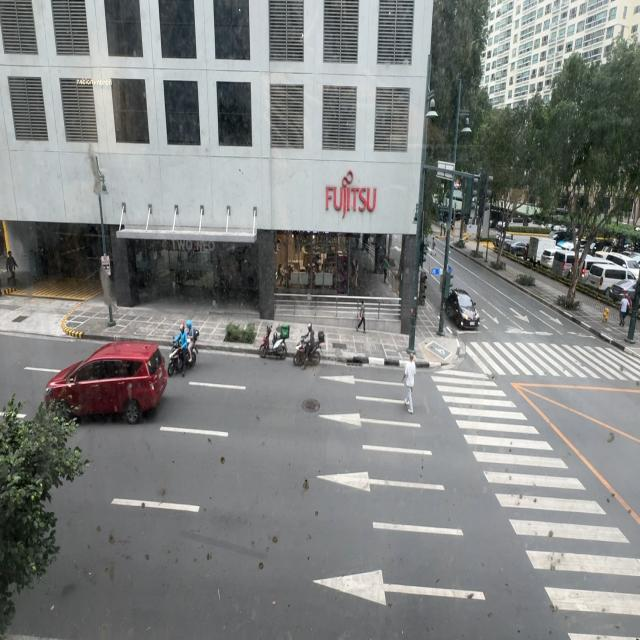jaywalking: (404, 354, 416, 414)
pedestrain: (6, 250, 18, 289), (620, 292, 631, 327), (356, 299, 366, 333)
